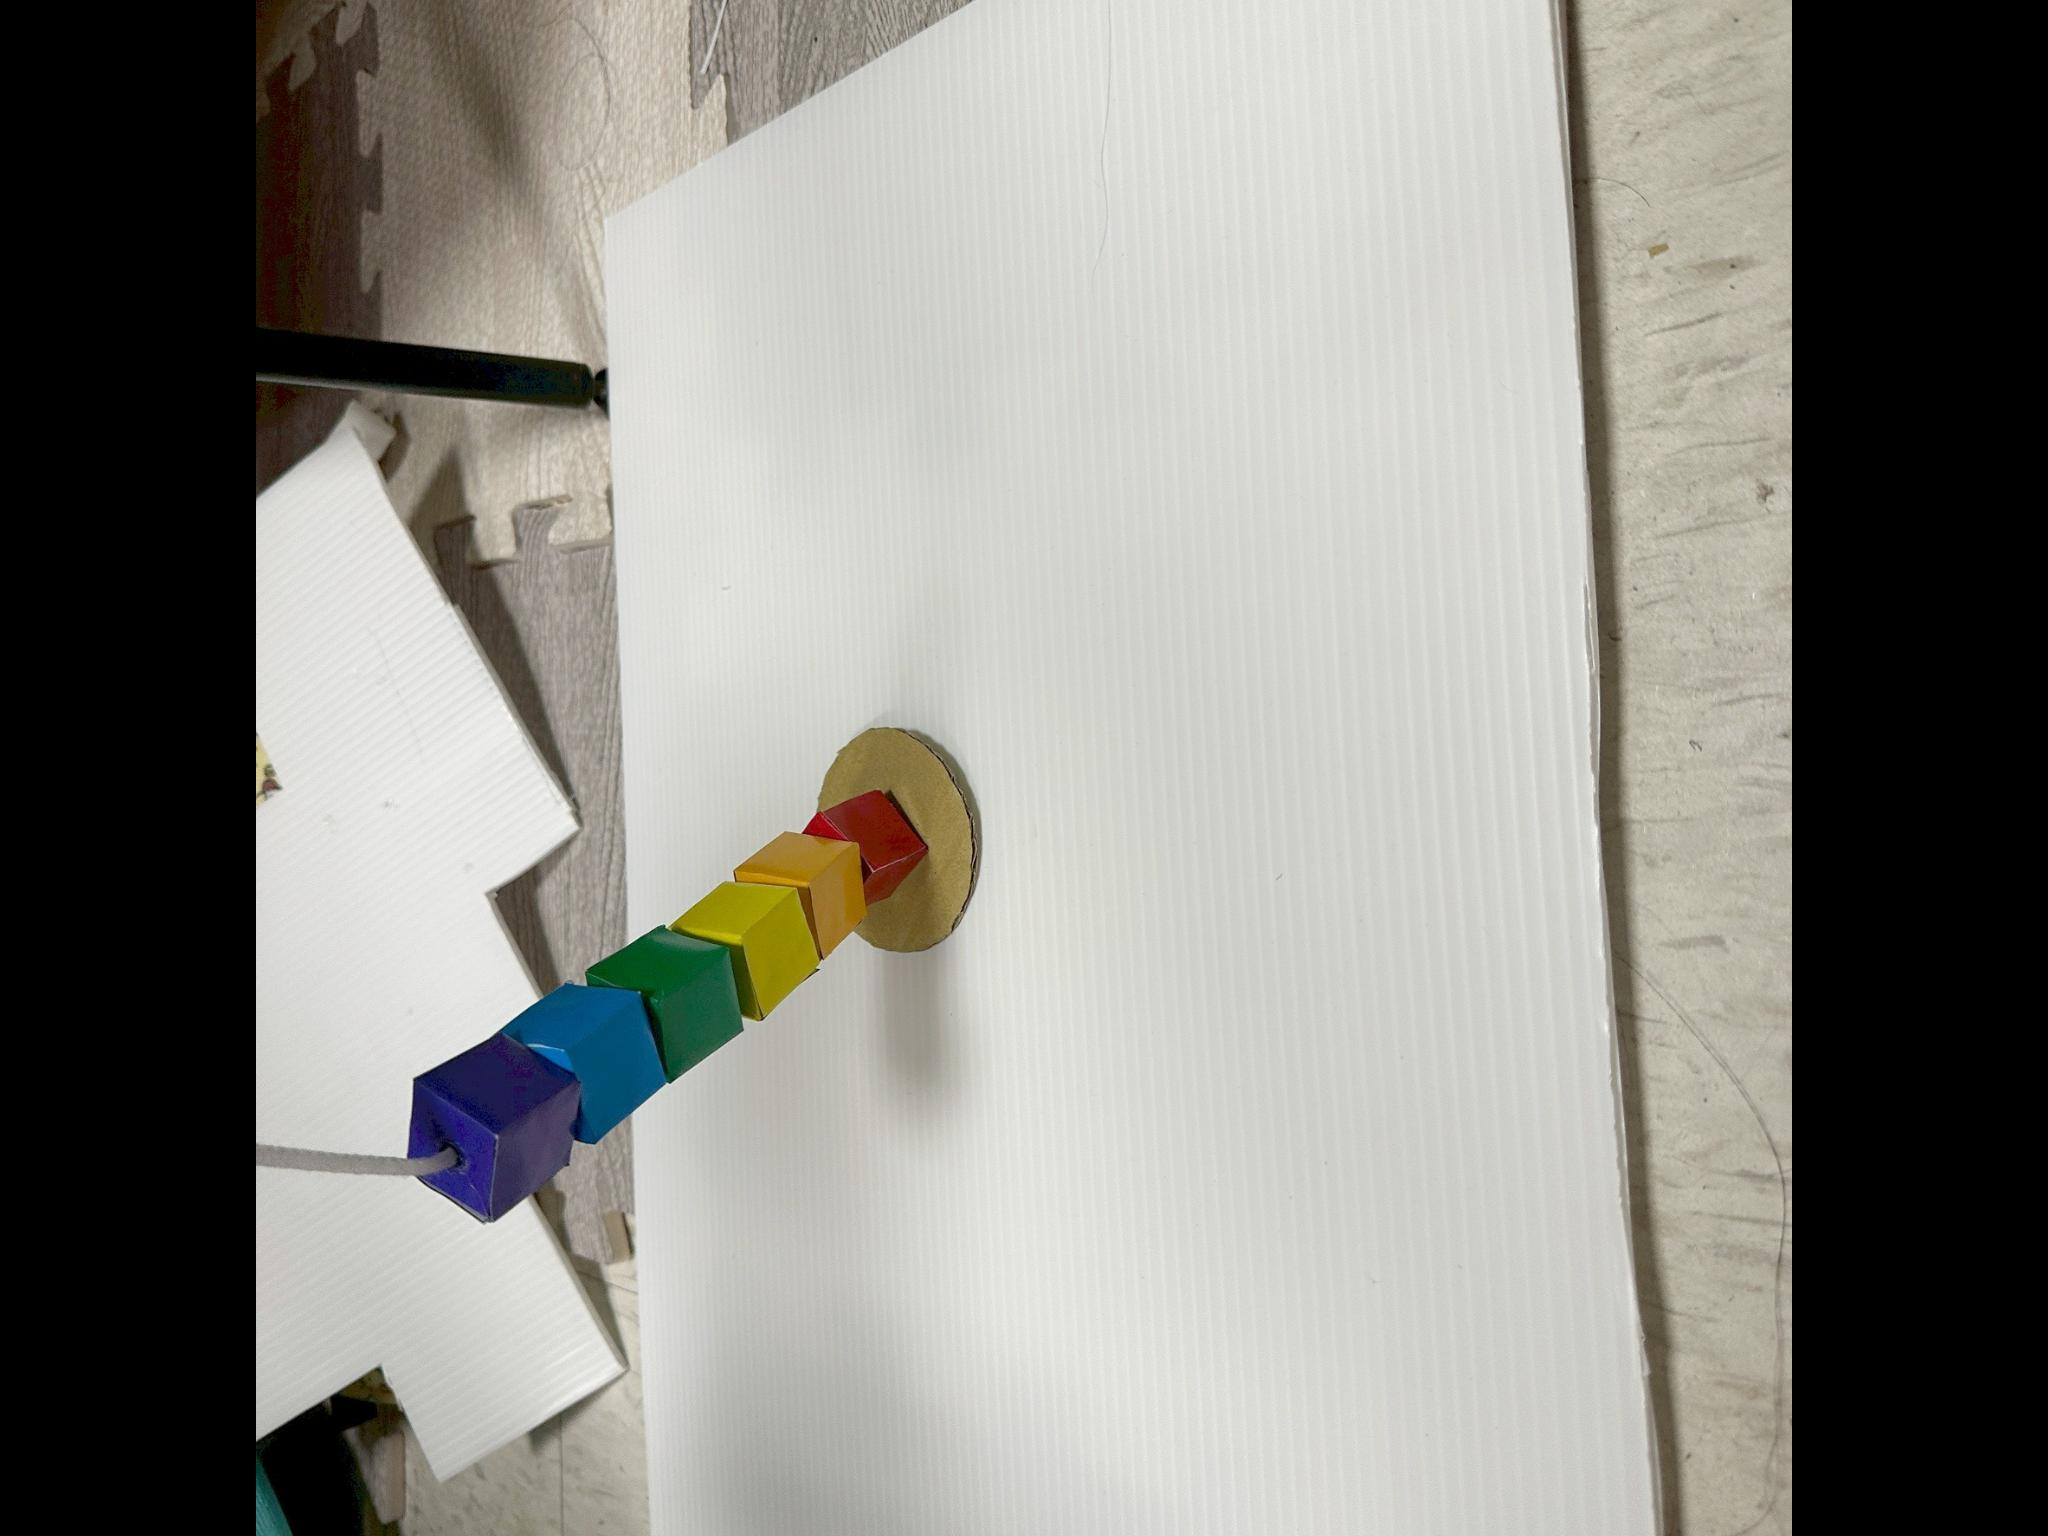base: (818, 726, 979, 950)
cube: (408, 1033, 579, 1221), (503, 984, 666, 1142), (585, 926, 742, 1081), (671, 878, 821, 1020), (735, 833, 866, 957), (805, 789, 927, 904)
